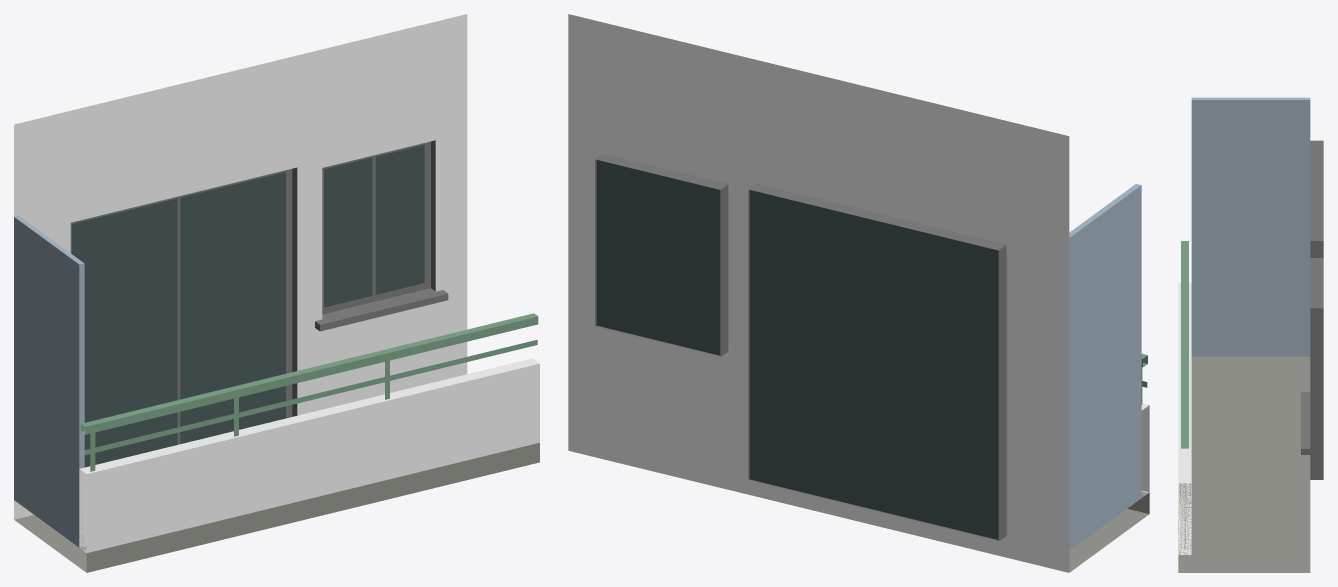
Rendered from mid-w1.fbx.
The picture shows the model from 3 angles, left to right: view 1: azimuth 30°, elevation 25°; view 2: azimuth 150°, elevation 25°; view 3: azimuth 270°, elevation 25°; orthographic projection. The views are drawn at different scales.
Visible parts, largest first — view 1: a2006/250/mid-w1; view 2: a2006/250/mid-w1; view 3: a2006/250/mid-w1.
Part boxes in pixels (x1,y1,x2,y2): a2006/250/mid-w1: [14, 14, 539, 572]; a2006/250/mid-w1: [568, 14, 1149, 572]; a2006/250/mid-w1: [1178, 97, 1323, 572].
Bounding box in the file's own units: 3.6 × 3 × 1.1.
